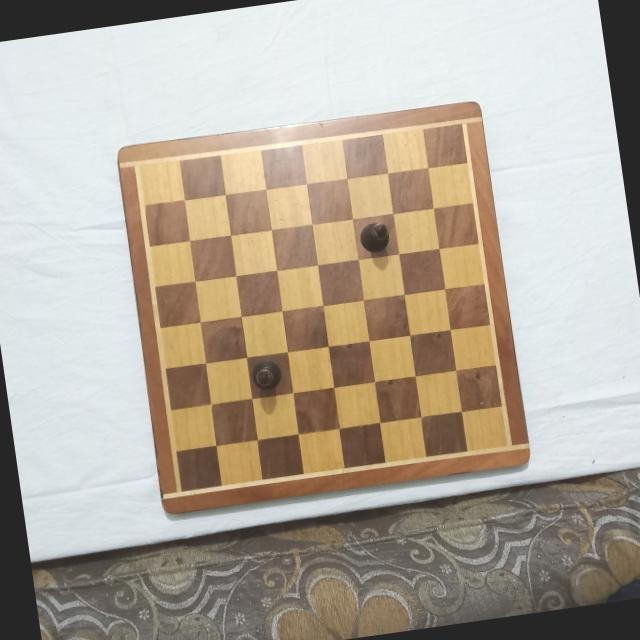black-bishop: (249, 356, 284, 393), (357, 218, 391, 253)
